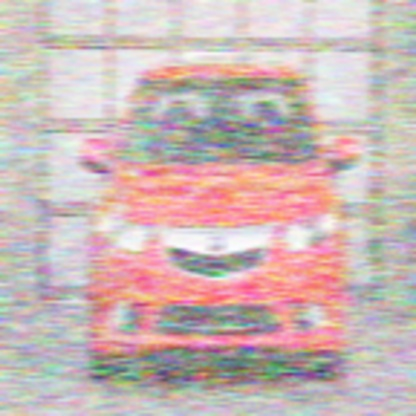Vehicle: (78, 63, 360, 384)
